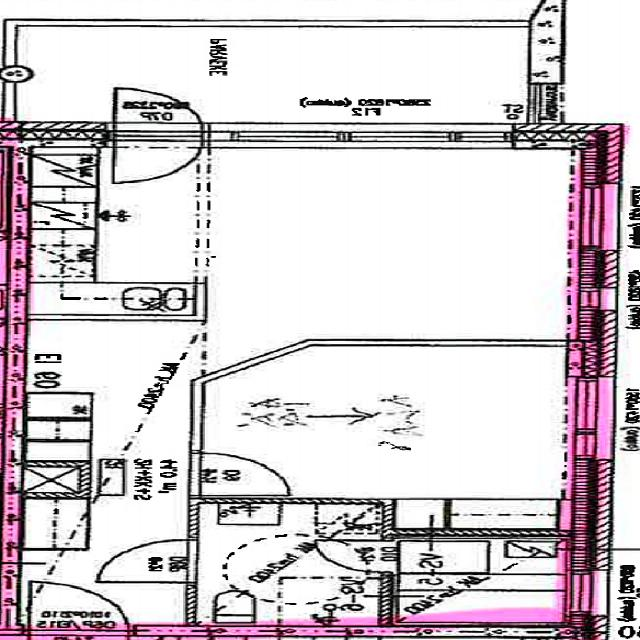door: (115, 123, 203, 191), (115, 81, 203, 148), (35, 580, 129, 638), (96, 540, 200, 583), (188, 452, 287, 494), (312, 540, 396, 574), (35, 624, 129, 640)
